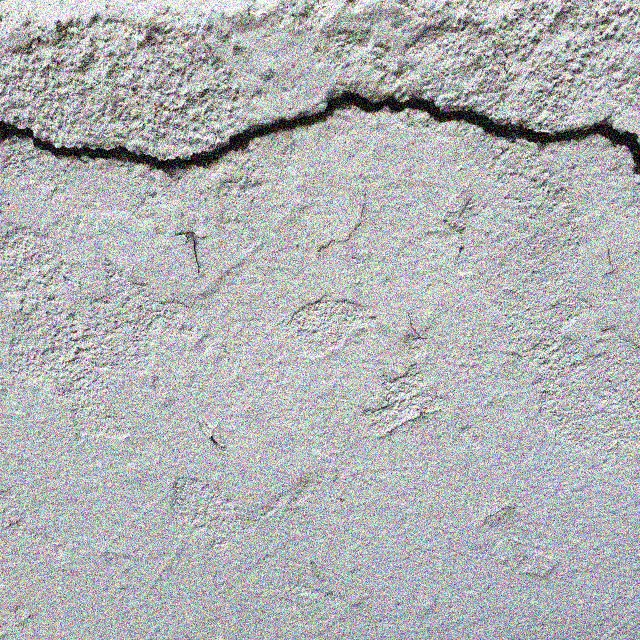SurfaceCrack: (1, 64, 640, 204)
